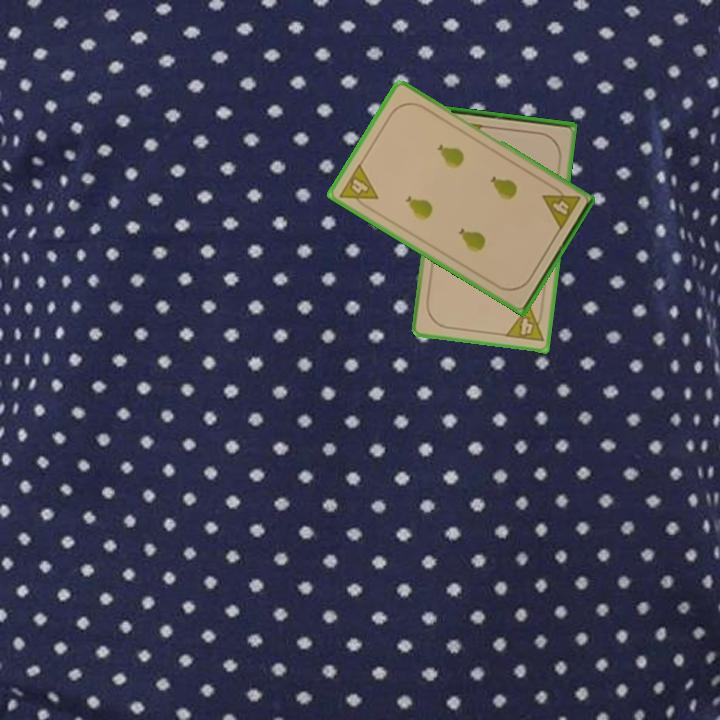4p: (336, 160, 381, 213), (539, 181, 583, 233), (502, 302, 547, 345)
